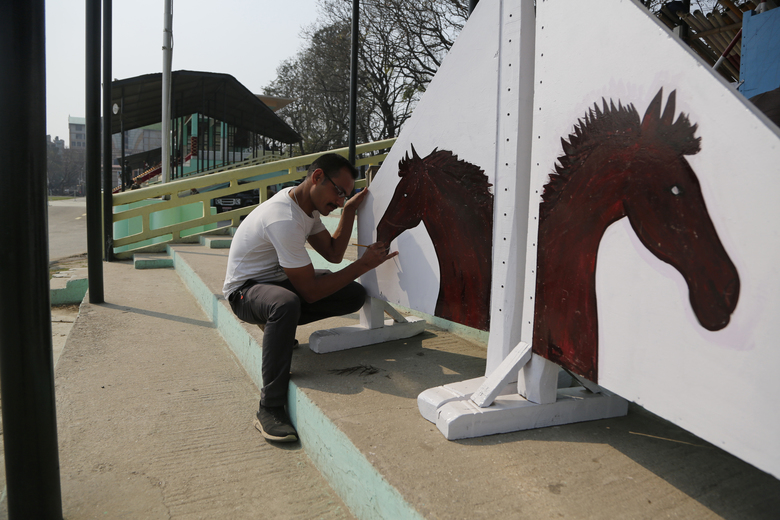human: (230, 138, 394, 467)
